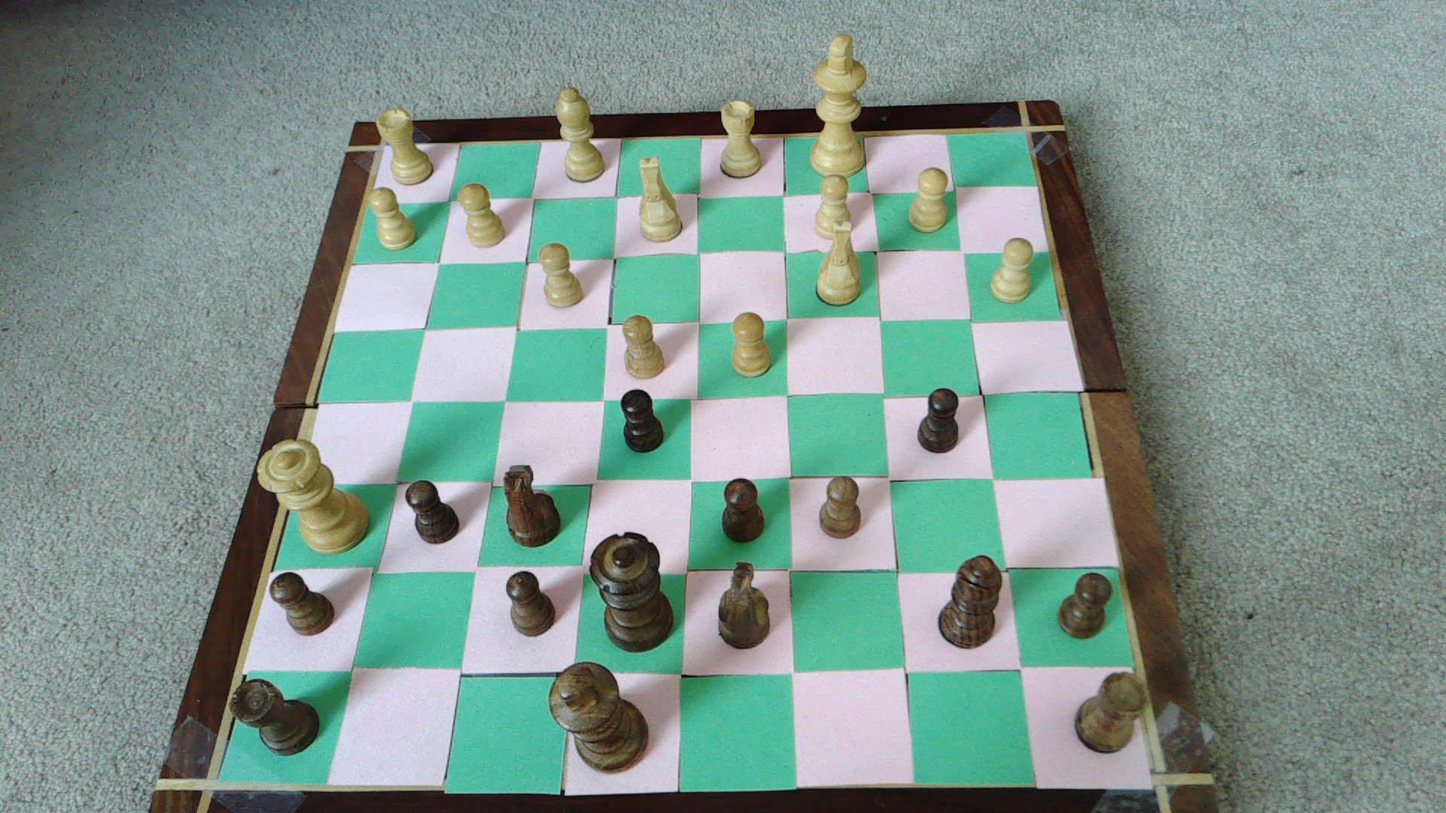dark_piece: (550, 662, 647, 770), (590, 533, 673, 650), (230, 679, 319, 754), (939, 555, 1002, 648), (1076, 672, 1148, 752), (503, 464, 560, 547), (718, 562, 769, 648), (270, 572, 335, 634), (1058, 572, 1111, 638), (406, 481, 459, 543), (506, 571, 554, 635), (722, 478, 765, 542), (917, 387, 959, 452), (621, 389, 664, 452), (819, 477, 861, 537)
white_piece: (258, 440, 368, 550), (809, 37, 867, 177), (555, 87, 605, 181), (377, 108, 435, 185), (638, 155, 683, 242), (816, 229, 861, 305), (720, 100, 763, 178), (458, 183, 507, 247), (539, 242, 584, 307), (990, 237, 1034, 303), (370, 187, 416, 250), (623, 315, 665, 379), (731, 312, 771, 377), (908, 167, 948, 232), (814, 175, 853, 239)
